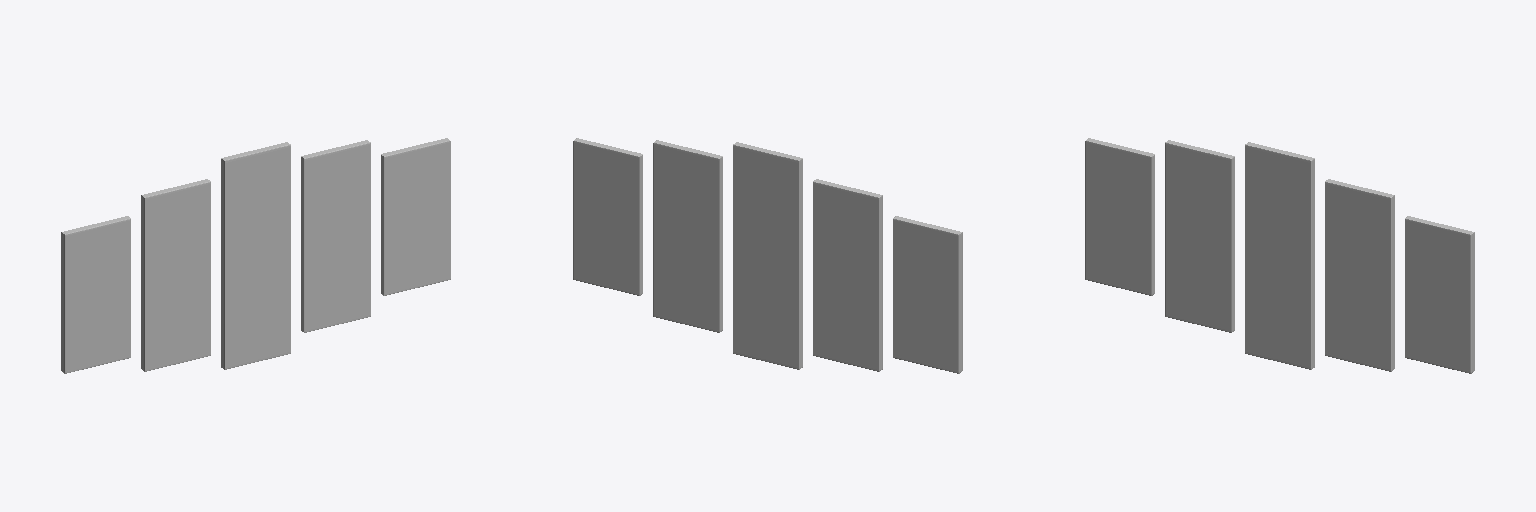
Rendered from Frame 5set OBJ.obj.
3 renders of one model, left to right at view 1: azimuth 30°, elevation 25°; view 2: azimuth 150°, elevation 25°; view 3: azimuth 330°, elevation 25°, orthographic.
Visible parts, largest first — view 1: Box029; view 2: Box029; view 3: Box029.
Part boxes in pixels (bbox=[...]): Box029: bbox=[61, 138, 450, 373]; Box029: bbox=[573, 138, 962, 373]; Box029: bbox=[1085, 138, 1474, 373].
Size of the model in its own units: 47.23 by 24.48 by 0.8066.